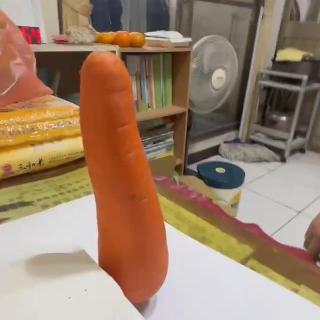carrot: (78, 50, 170, 308)
